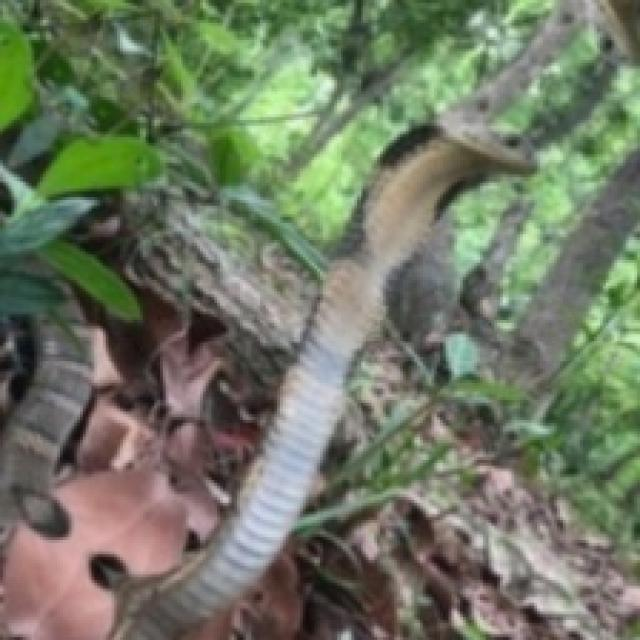king cobra: (77, 126, 529, 637), (114, 126, 529, 637)
